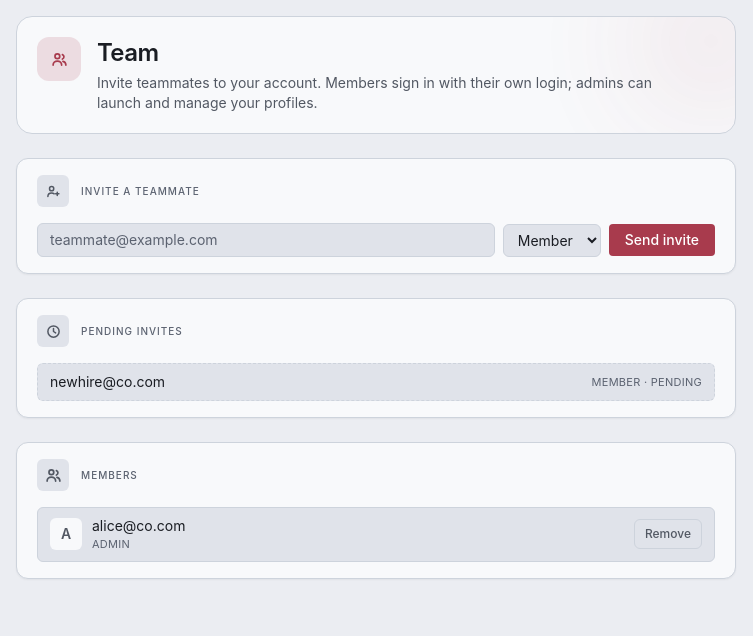
Scenario: TeamView › renders a failed invite as a distinct error alert (not a success status)
Expected: the text "alice@co.com" is shown, [92,516,185,536]
Step 1. Type "carol@co.com" into the field named "Invitee email" → (266, 240), box [37,223,495,257]
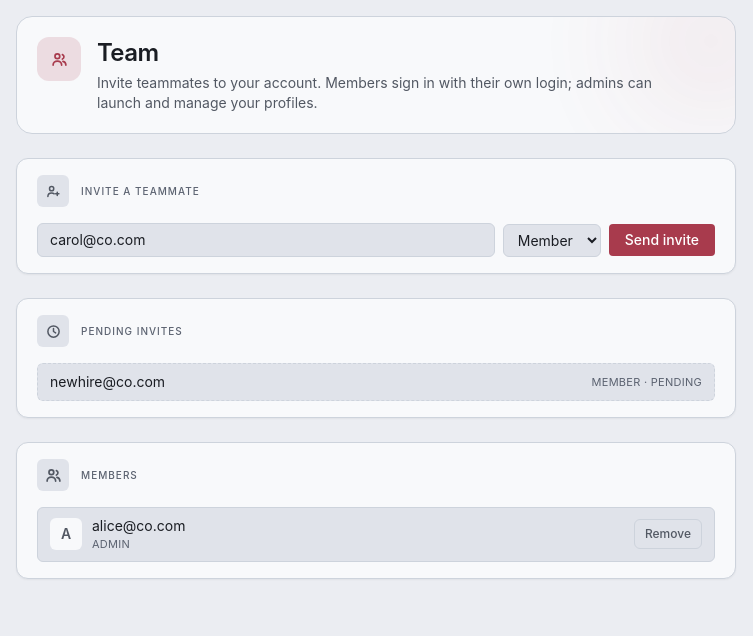
Step 2. Click the button "Send invite" → (662, 240), box [609,224,715,256]
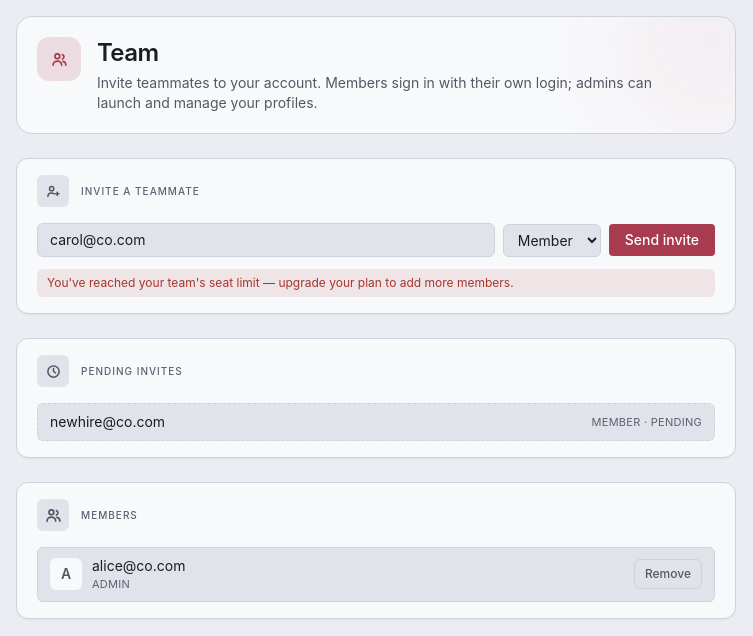
Result: the message shows "seat limit" at [47,275,514,290]
